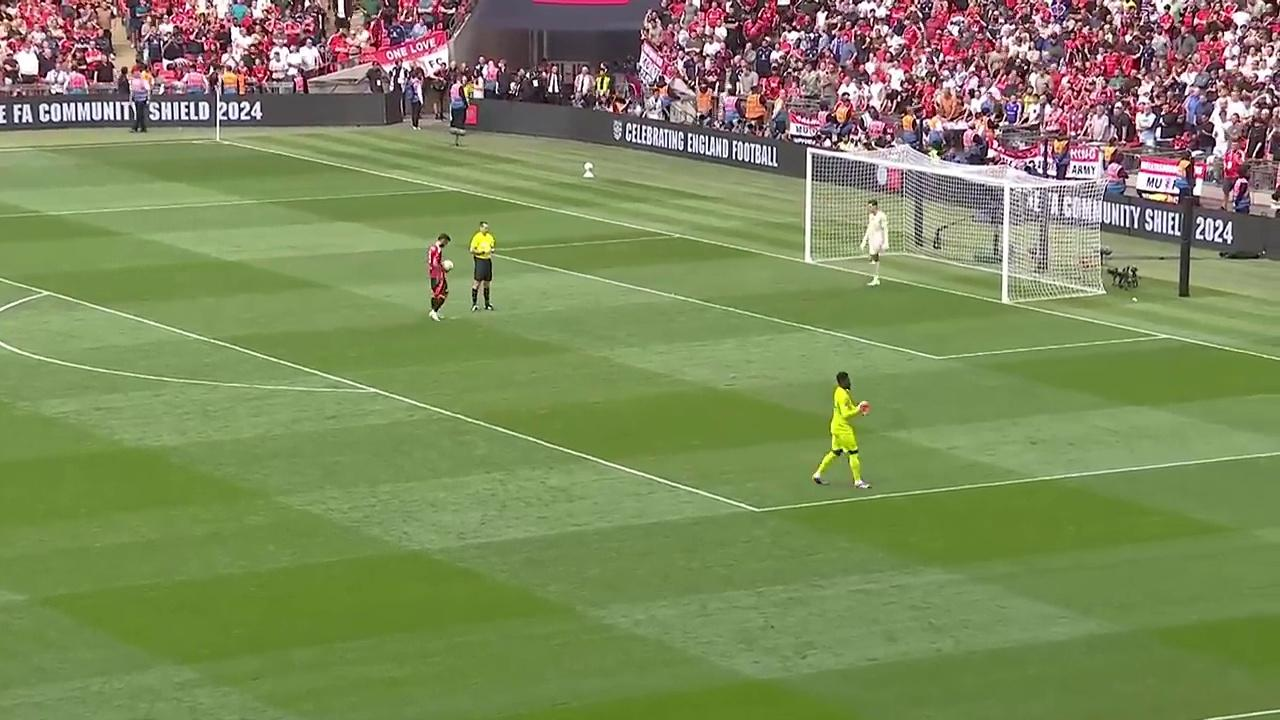player: (811, 371, 873, 489), (419, 230, 453, 320), (858, 197, 892, 286)
referee: (469, 221, 495, 311)
